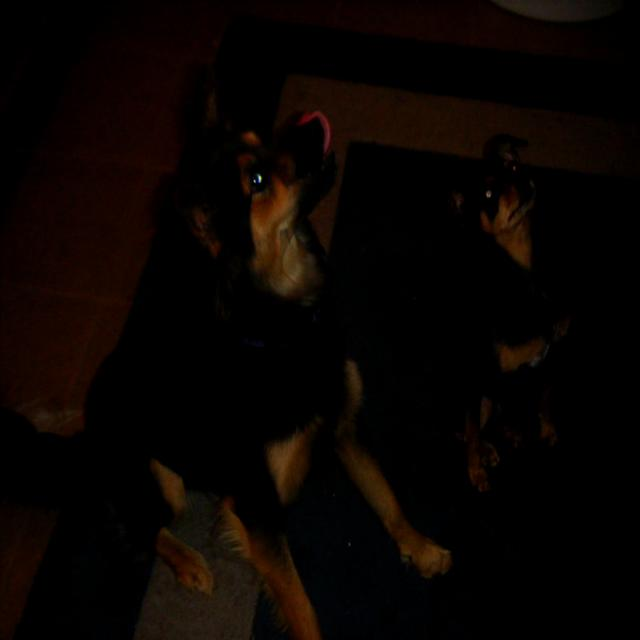Dog: (143, 71, 427, 640), (436, 100, 640, 576)
